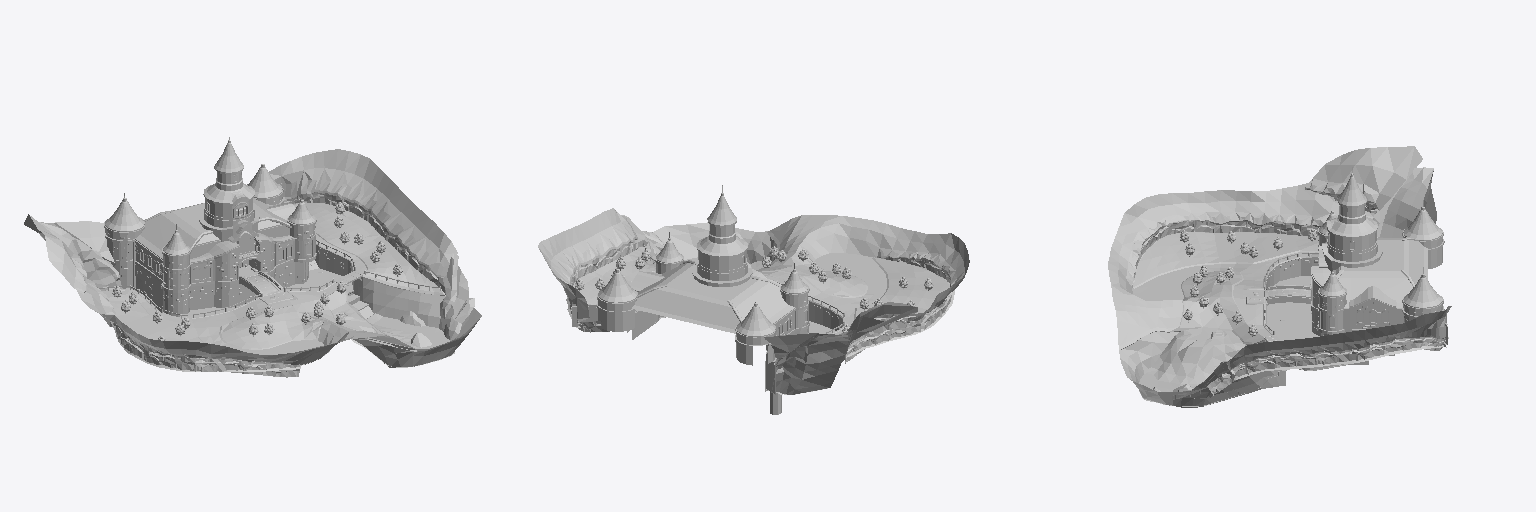
File: peach_castle.obj
3 renders of one model, left to right at view 1: azimuth 30°, elevation 25°; view 2: azimuth 150°, elevation 25°; view 3: azimuth 270°, elevation 25°, orthographic.
Parts seen in each view (by area): view 1: Grass, Castle, Windows.001; view 2: Grass, Castle; view 3: Grass, Castle.
Part boxes in pixels (x1,y1,x2,y2): Grass: (24, 149, 481, 377); Castle: (104, 137, 362, 316); Windows.001: (140, 175, 311, 287); Grass: (538, 208, 969, 414); Castle: (572, 185, 838, 394); Grass: (1108, 146, 1451, 407); Castle: (1246, 167, 1447, 370).
Bounding box in the file's own units: 305 × 162 × 258.